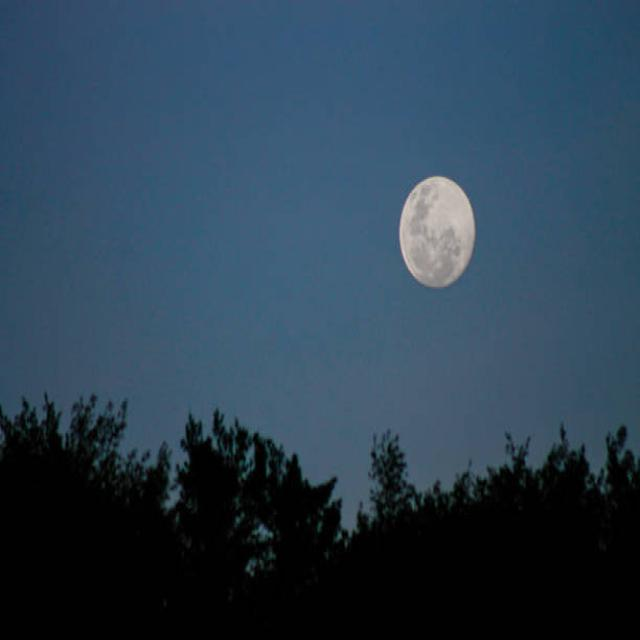moon: (396, 167, 478, 286)
